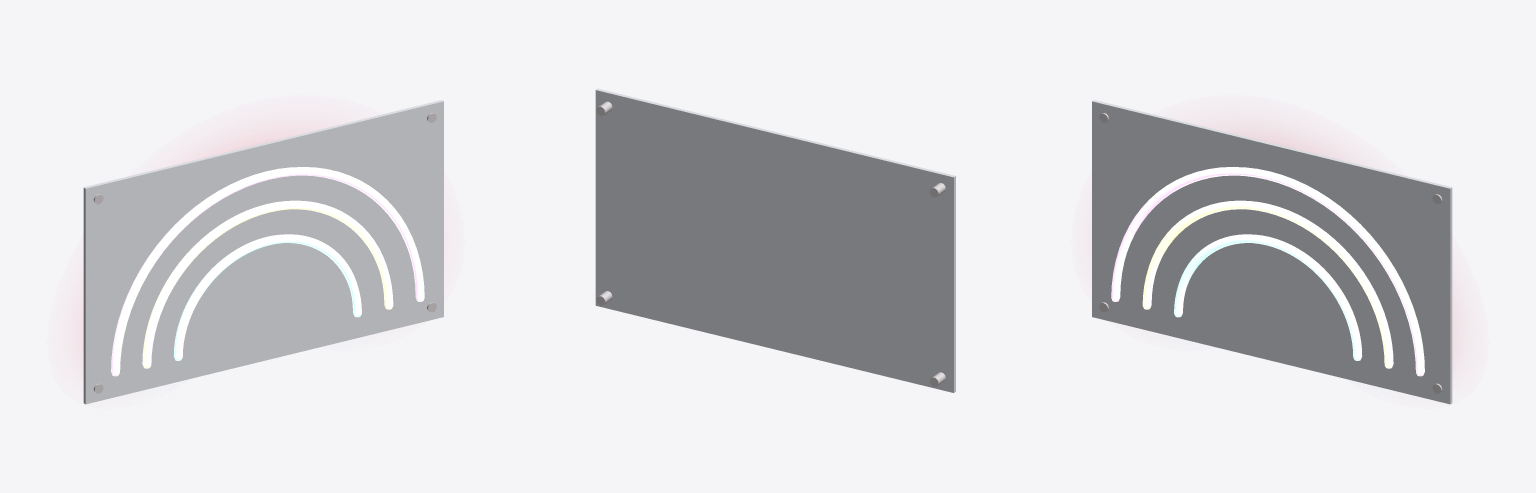
The model's file is obj-neon-rainbow.glb.
The picture shows the model from 3 angles, left to right: view 1: azimuth 30°, elevation 25°; view 2: azimuth 150°, elevation 25°; view 3: azimuth 330°, elevation 25°; orthographic projection.
Visible parts, largest first — view 1: obj-neon-rainbow; view 2: obj-neon-rainbow; view 3: obj-neon-rainbow.
Part boxes in pixels (x1=…): obj-neon-rainbow: x1=82, y1=100, x2=443, y2=404; obj-neon-rainbow: x1=595, y1=88, x2=955, y2=392; obj-neon-rainbow: x1=1092, y1=100, x2=1453, y2=404.
Bounding box in the file's own units: 0.54 × 0.37 × 0.0285.
6 materials, 6 textured.
